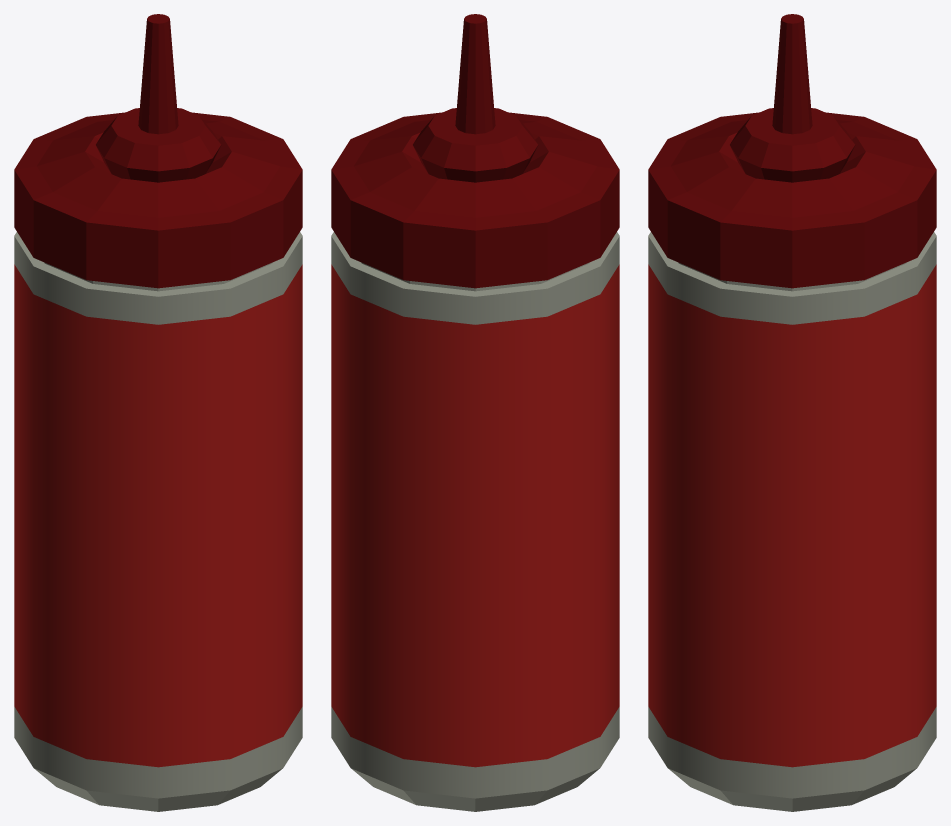
File: SM_sauce_bottle.fbx
The picture shows the model from 3 angles, left to right: view 1: azimuth 30°, elevation 25°; view 2: azimuth 150°, elevation 25°; view 3: azimuth 270°, elevation 25°; orthographic projection.
Visible parts, largest first — view 1: sauce_bottle; view 2: sauce_bottle; view 3: sauce_bottle.
Boxes of the visible parts, x1,y1,x2,y2 form: sauce_bottle: [14, 14, 302, 811]; sauce_bottle: [331, 14, 619, 811]; sauce_bottle: [648, 14, 936, 811].
Size of the model in its own units: 12.88 by 36.6 by 12.88.
